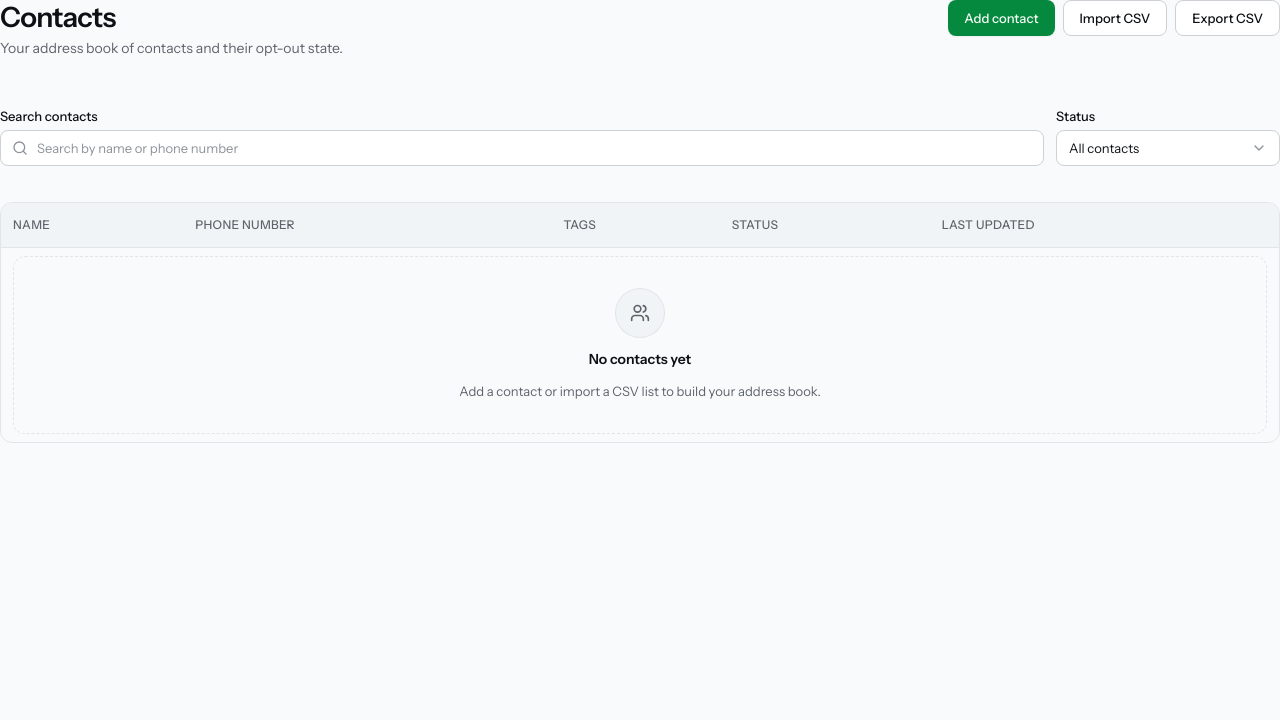
Test: ContactsList › opens the add-contact dialog with the contact form
The width and height of the screenshot is (1280, 720).
Check: the heading "No contacts yet" is shown, box [589, 348, 691, 368]
Click the button with test id "contacts-add-button": [1001, 18] box [948, 0, 1055, 36]
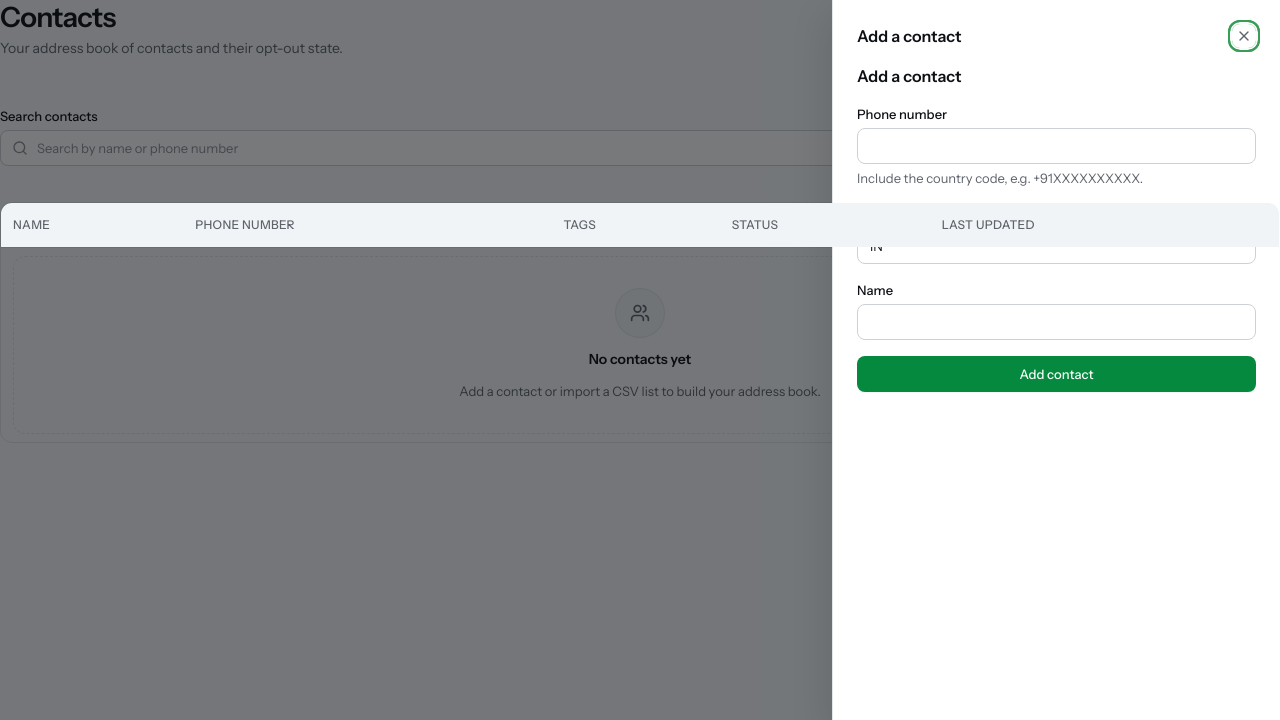
Check: the field with test id "contact-form-phone" is shown, box [857, 128, 1256, 164]
